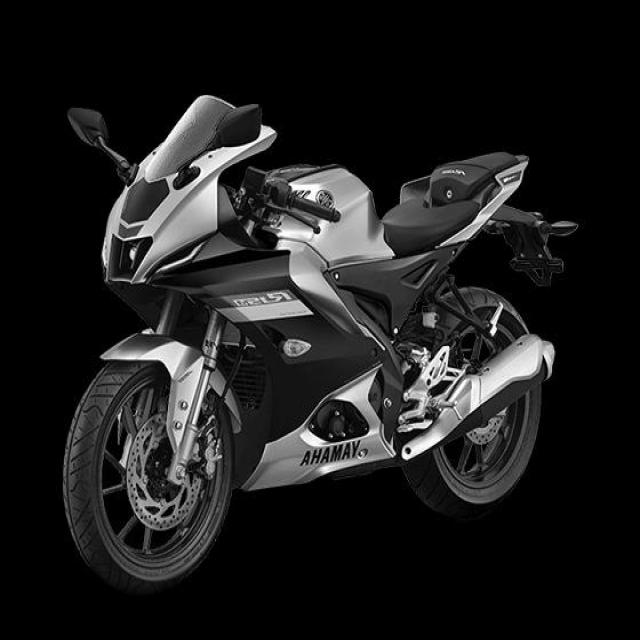Motorcycle: (63, 96, 570, 595)
